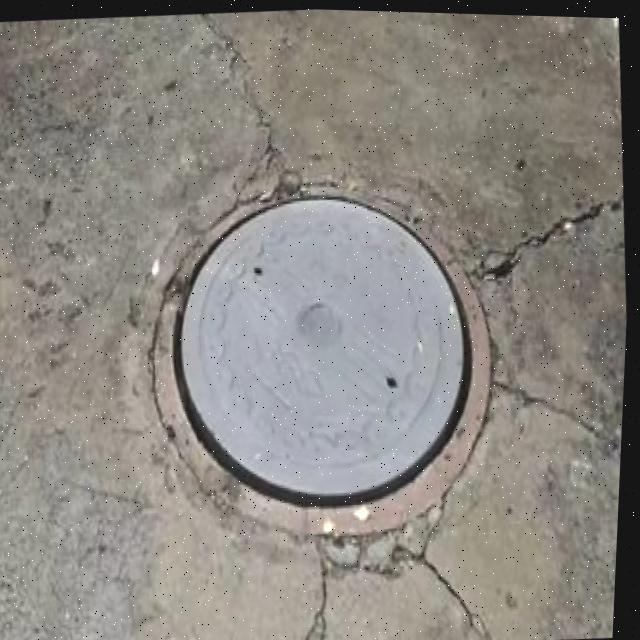manhole: (107, 120, 522, 552)
